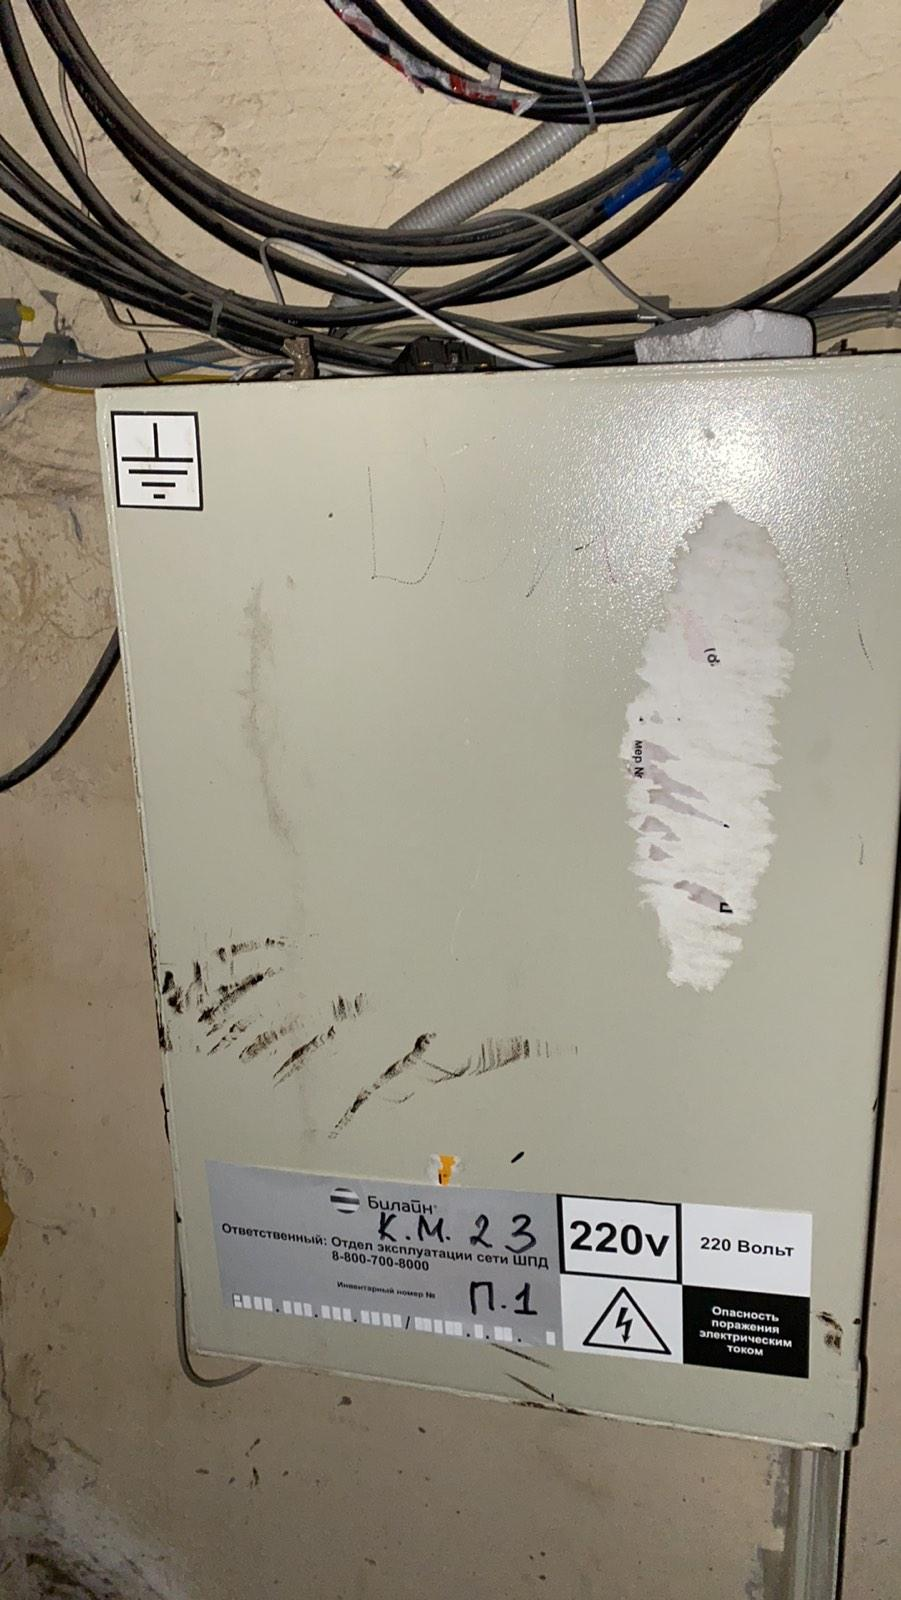sv-5: (77, 338, 888, 1456)
